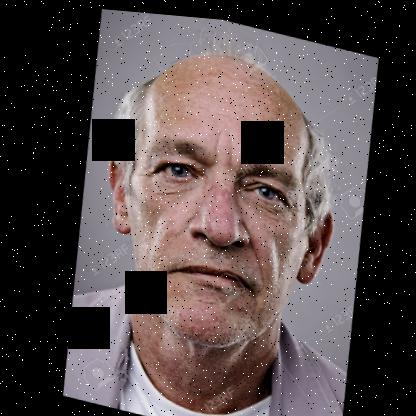Male: (77, 27, 359, 372)
